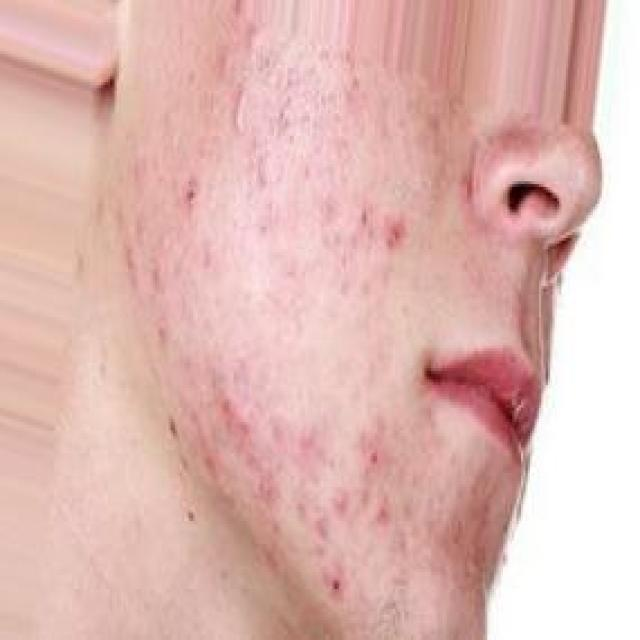acne: (216, 374, 292, 504), (349, 418, 407, 542), (286, 524, 354, 604), (362, 194, 426, 265), (170, 176, 228, 244)
